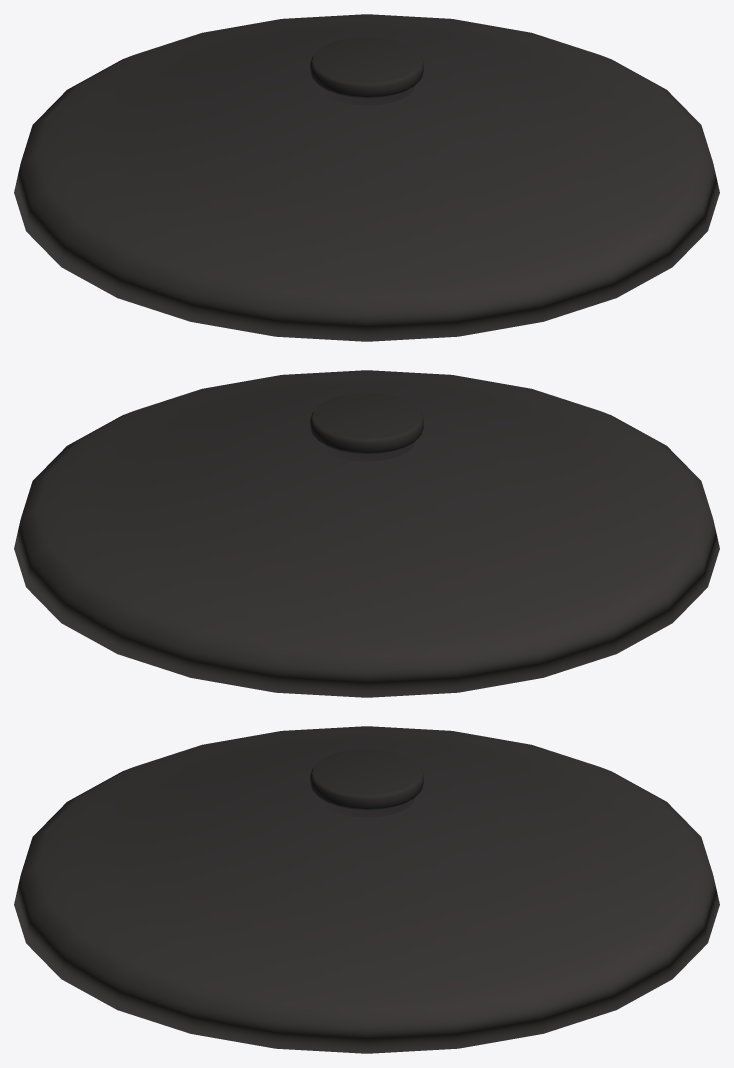
Rendered from Big Pot Lid.fbx.
3 views of the same model, one above another, from view 1: azimuth 30°, elevation 25°; view 2: azimuth 150°, elevation 25°; view 3: azimuth 270°, elevation 25° (orthographic).
Visible parts, largest first — view 1: Pot Big Lid; view 2: Pot Big Lid; view 3: Pot Big Lid.
Boxes of the visible parts, x1,y1,x2,y2 form: Pot Big Lid: [14, 14, 719, 341]; Pot Big Lid: [14, 370, 719, 697]; Pot Big Lid: [14, 726, 719, 1053].
Size of the model in its own units: 200 by 41.62 by 200.
